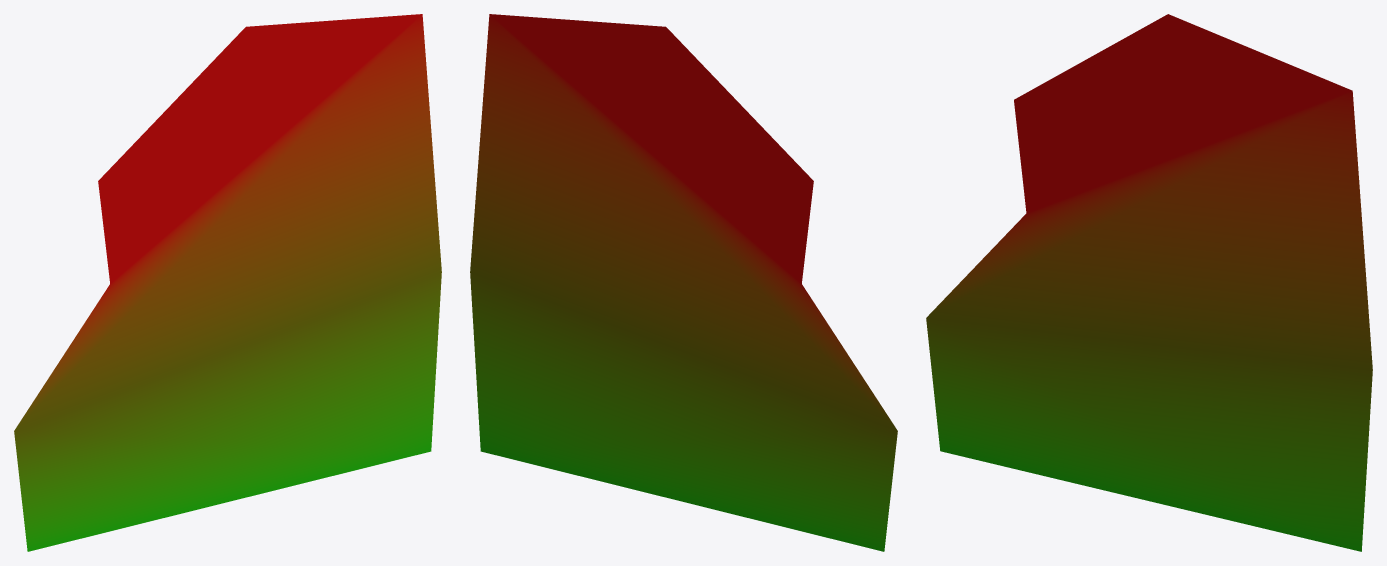
The model's file is White Ramping Fumitory_LOD4_Var3_ti4efc3ia.fbx.
The picture shows the model from 3 angles, left to right: view 1: azimuth 30°, elevation 25°; view 2: azimuth 150°, elevation 25°; view 3: azimuth 330°, elevation 25°; orthographic projection. The views are drawn at different scales.
Parts seen in each view (by area): view 1: _077e_Var3_LOD4; view 2: _077e_Var3_LOD4; view 3: _077e_Var3_LOD4.
Part boxes in pixels (bbox=[...]): _077e_Var3_LOD4: bbox=[14, 14, 441, 551]; _077e_Var3_LOD4: bbox=[470, 14, 897, 551]; _077e_Var3_LOD4: bbox=[926, 14, 1372, 551].
Size of the model in its own units: 65.59 by 69.15 by 3.81e-06.
